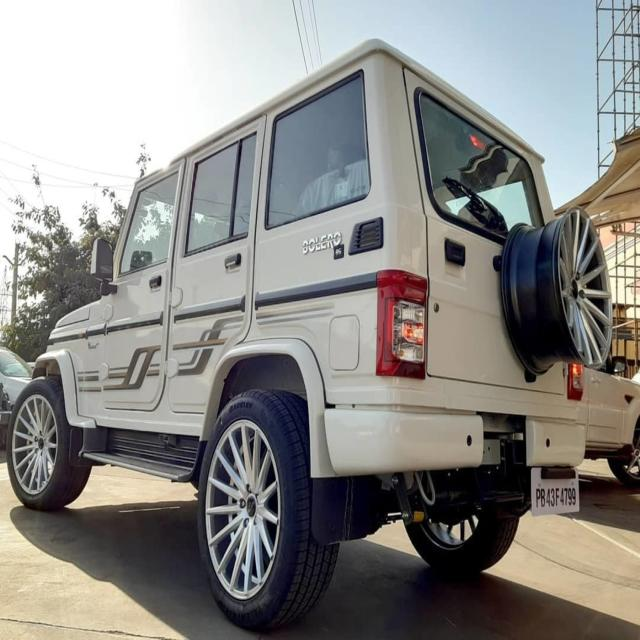light_vehicle: (0, 38, 613, 619), (596, 373, 640, 497)
